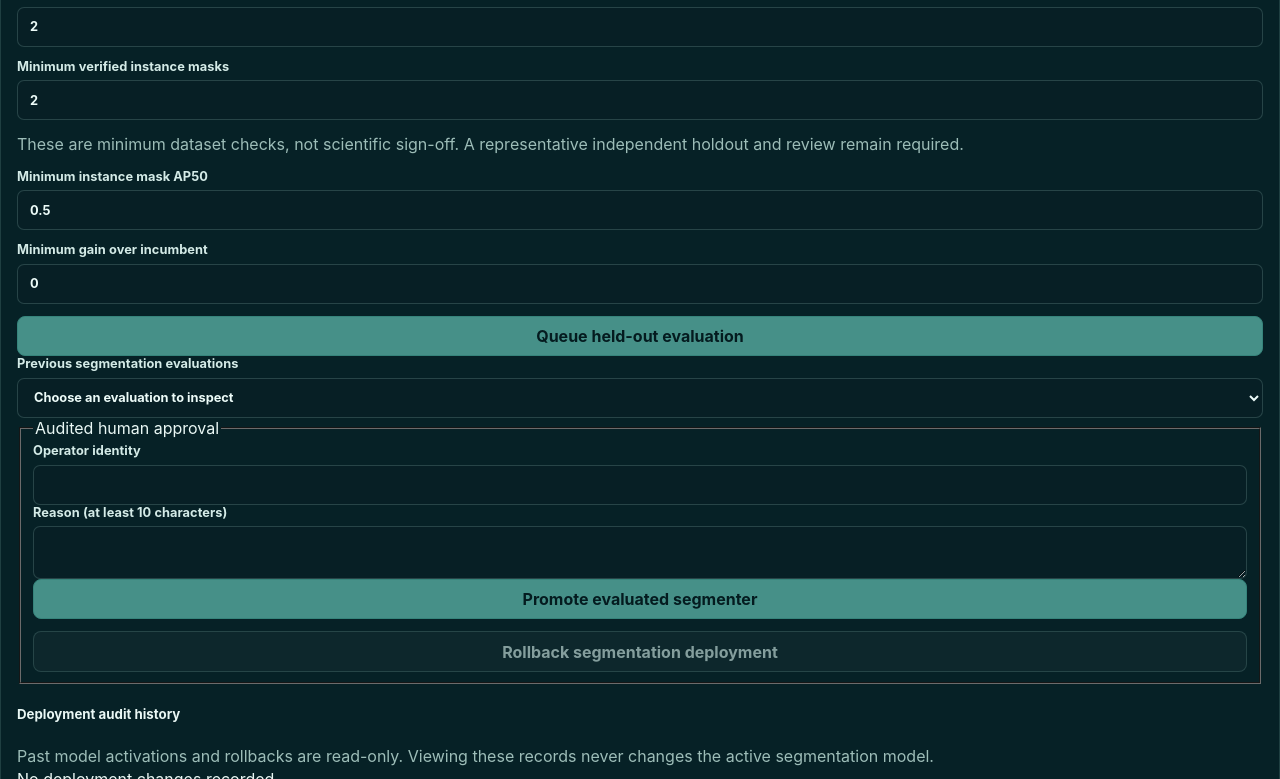
SegmentationEvaluationPanel › shows the immutable mask holdout digest and per-class sample support
The image size is (1280, 779).
(page scrolled)
Select "completed: candidate" in the dropdown named "Segmentation evaluation history" at (640, 398), box [17,378,1263,418]
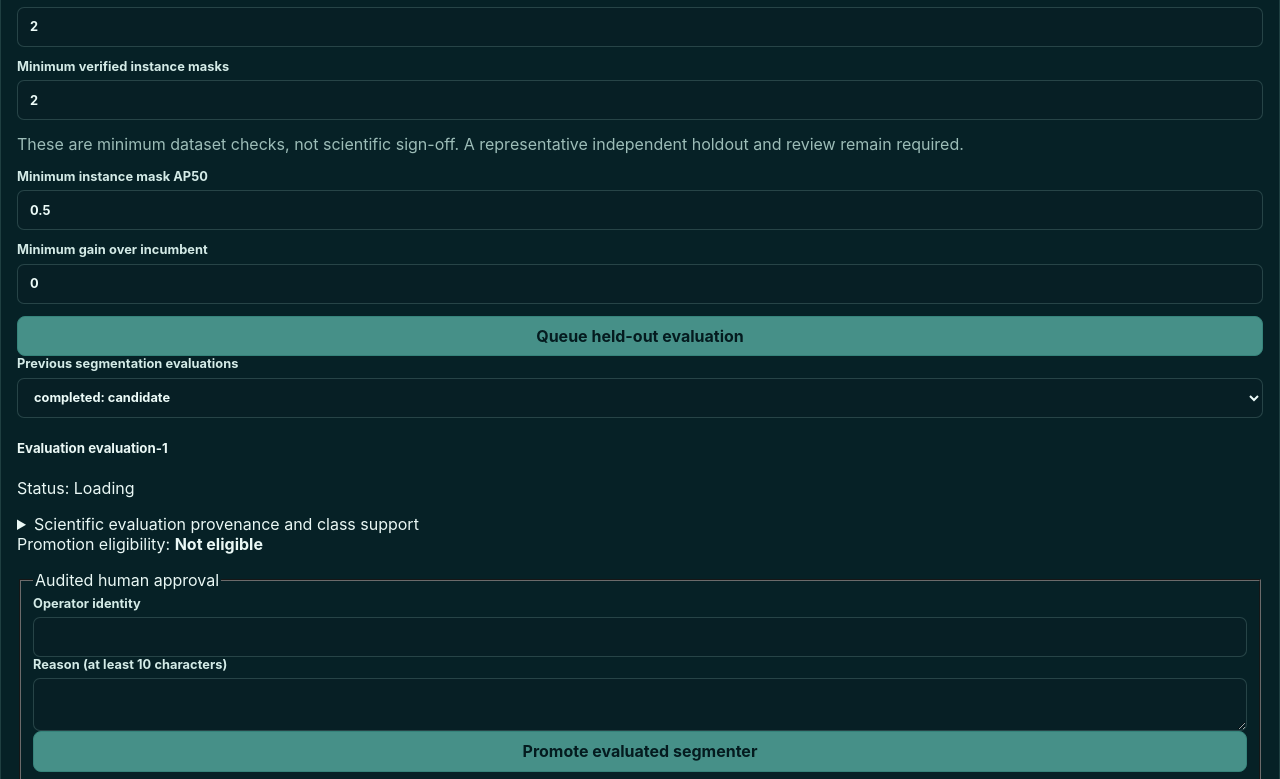
Click the heading "Scientific evaluation provenance and class support" at (226, 524), box [34,514,419,534]
(page scrolled)
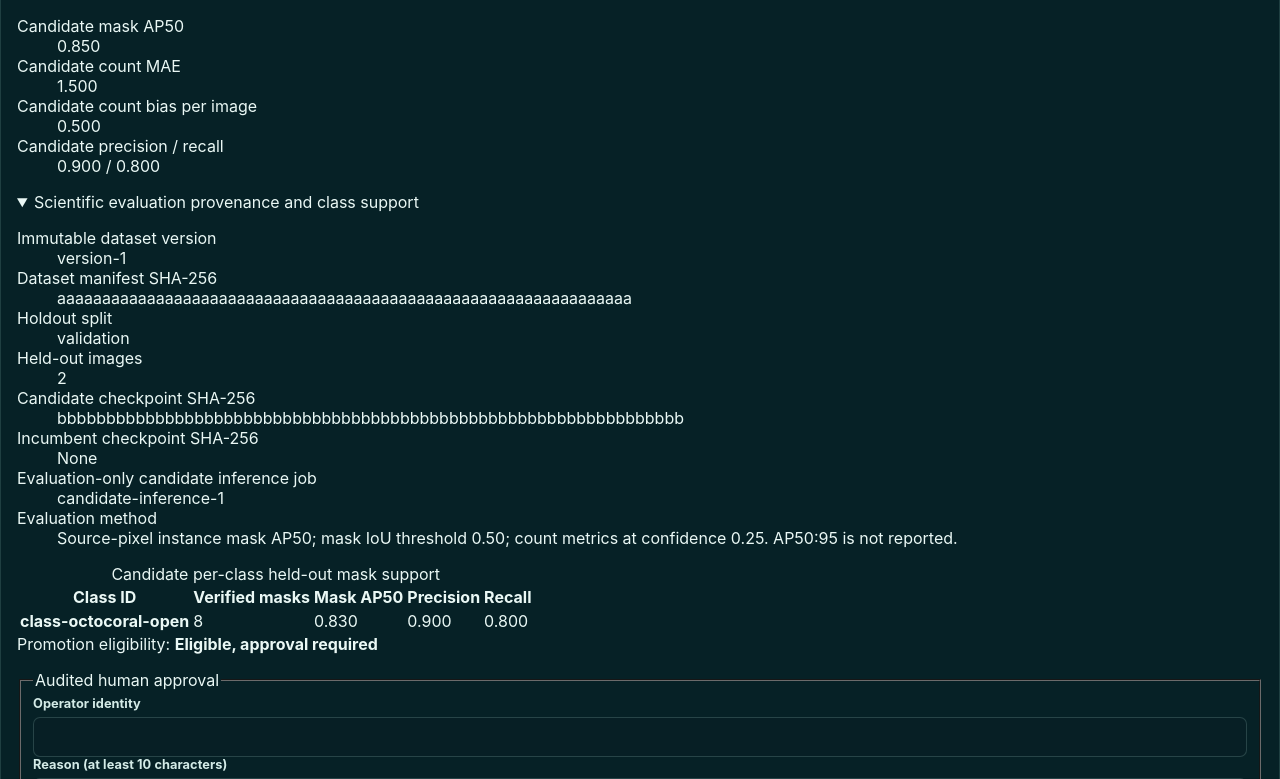
Expected: the text "candidate-inference-1" is shown, [57,488,224,508]
Expected: the column heading "class-octocoral-open" is shown, [19,610,190,632]
Expected: the text "8" is shown, [192,610,311,632]
